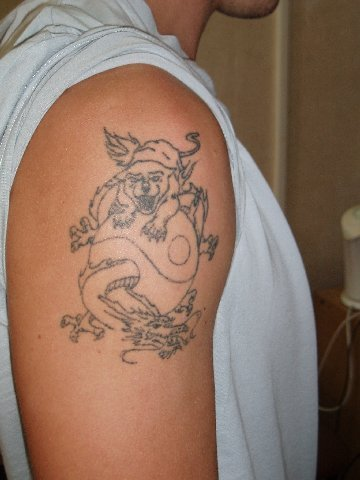tatu6_drakon: (42, 110, 224, 382)
